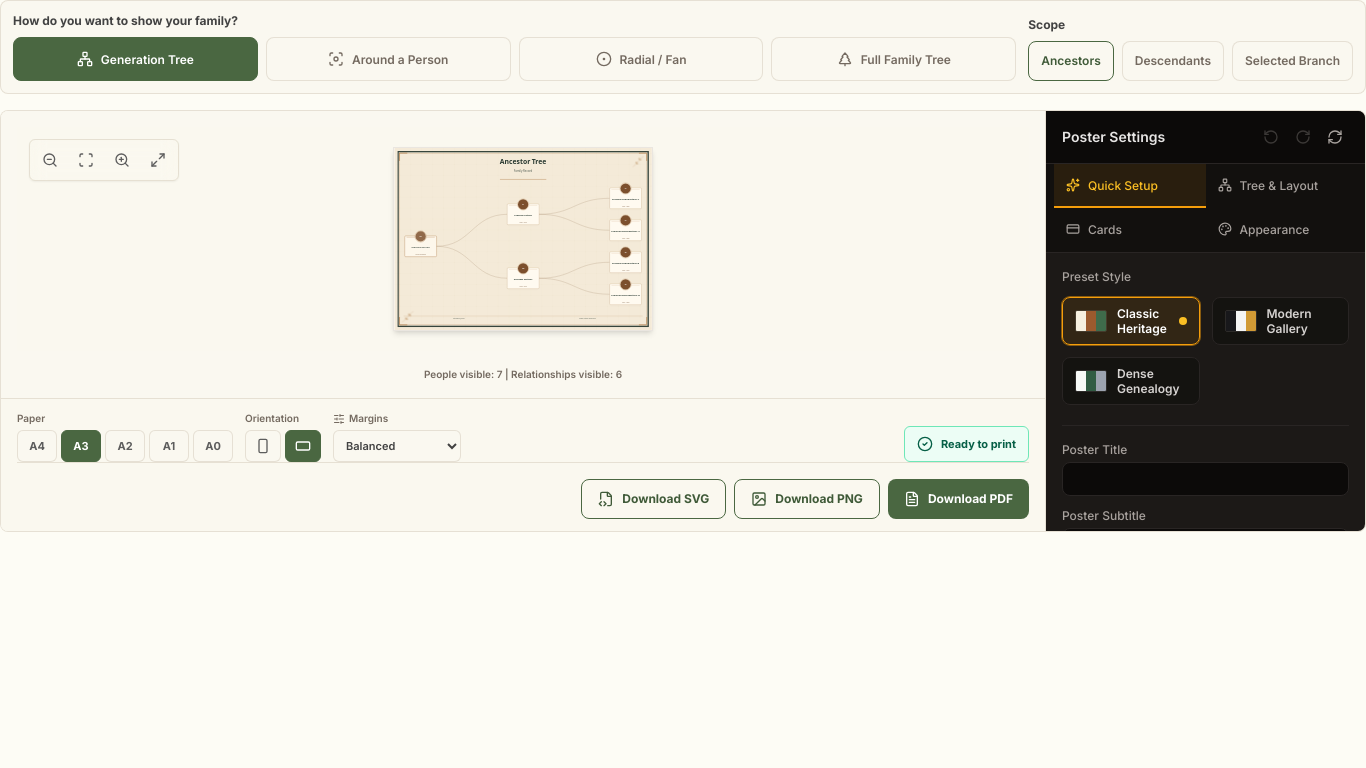
Test: VisualPublishingStudio Phase 1B Complete Behavioral Suite › switches to a descendant selector and descendant-tiered PosterScene
The image size is (1366, 768).
Click the button "Descendants". click: coordinates (1173, 61)
box: [1122, 41, 1224, 81]
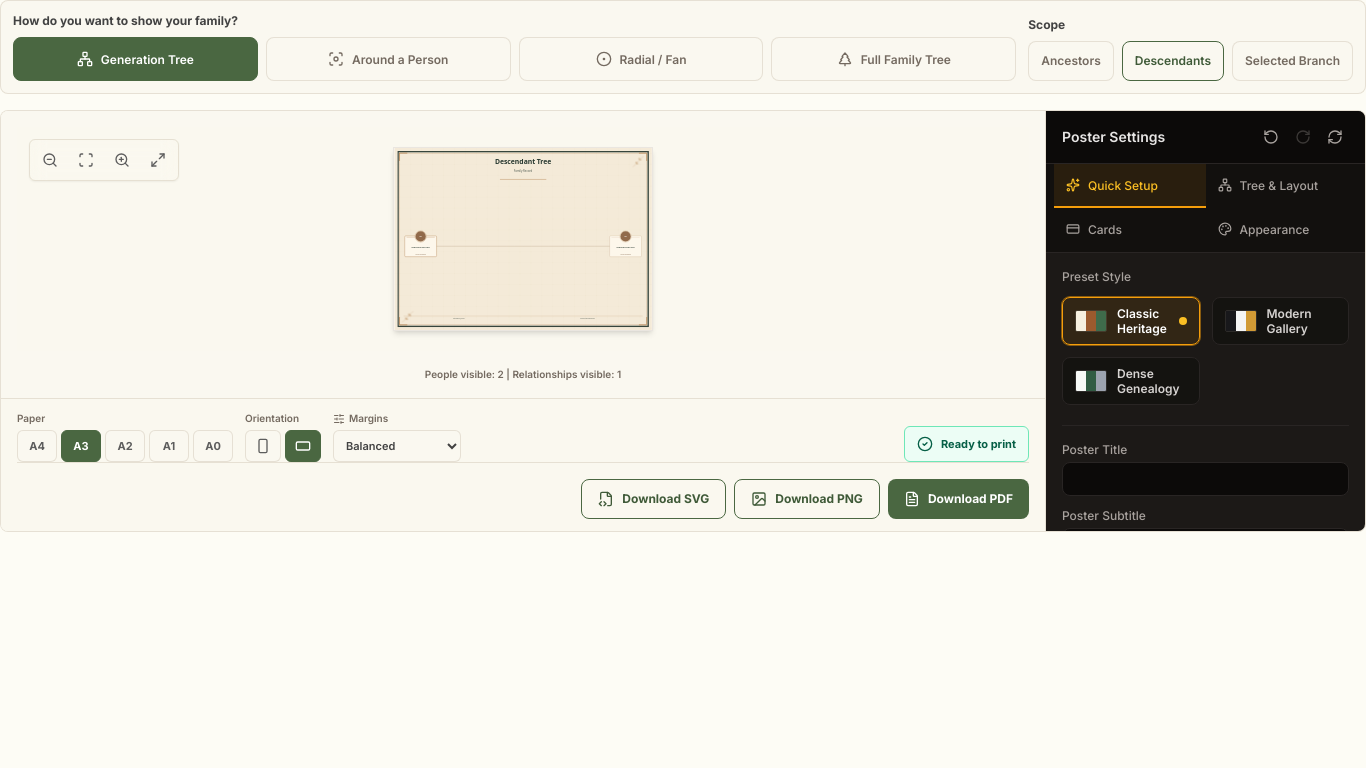
Check: the text "People visible: 2 | Relationships visible: 1" is shown, box [425, 367, 621, 382]
Check: the picture named "Descendant Tree preview" is shown, box [394, 148, 652, 330]
